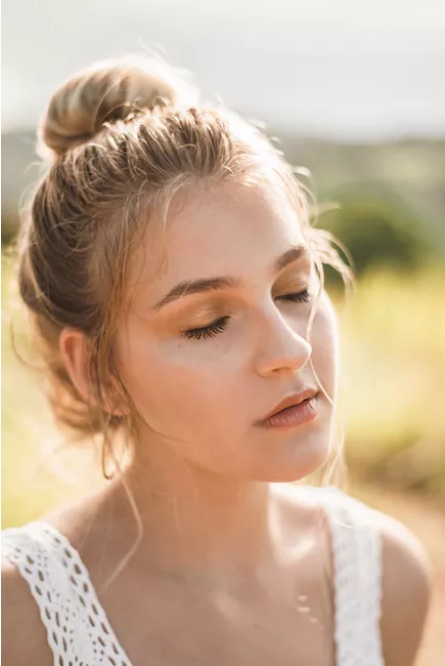face: (121, 186, 338, 478)
